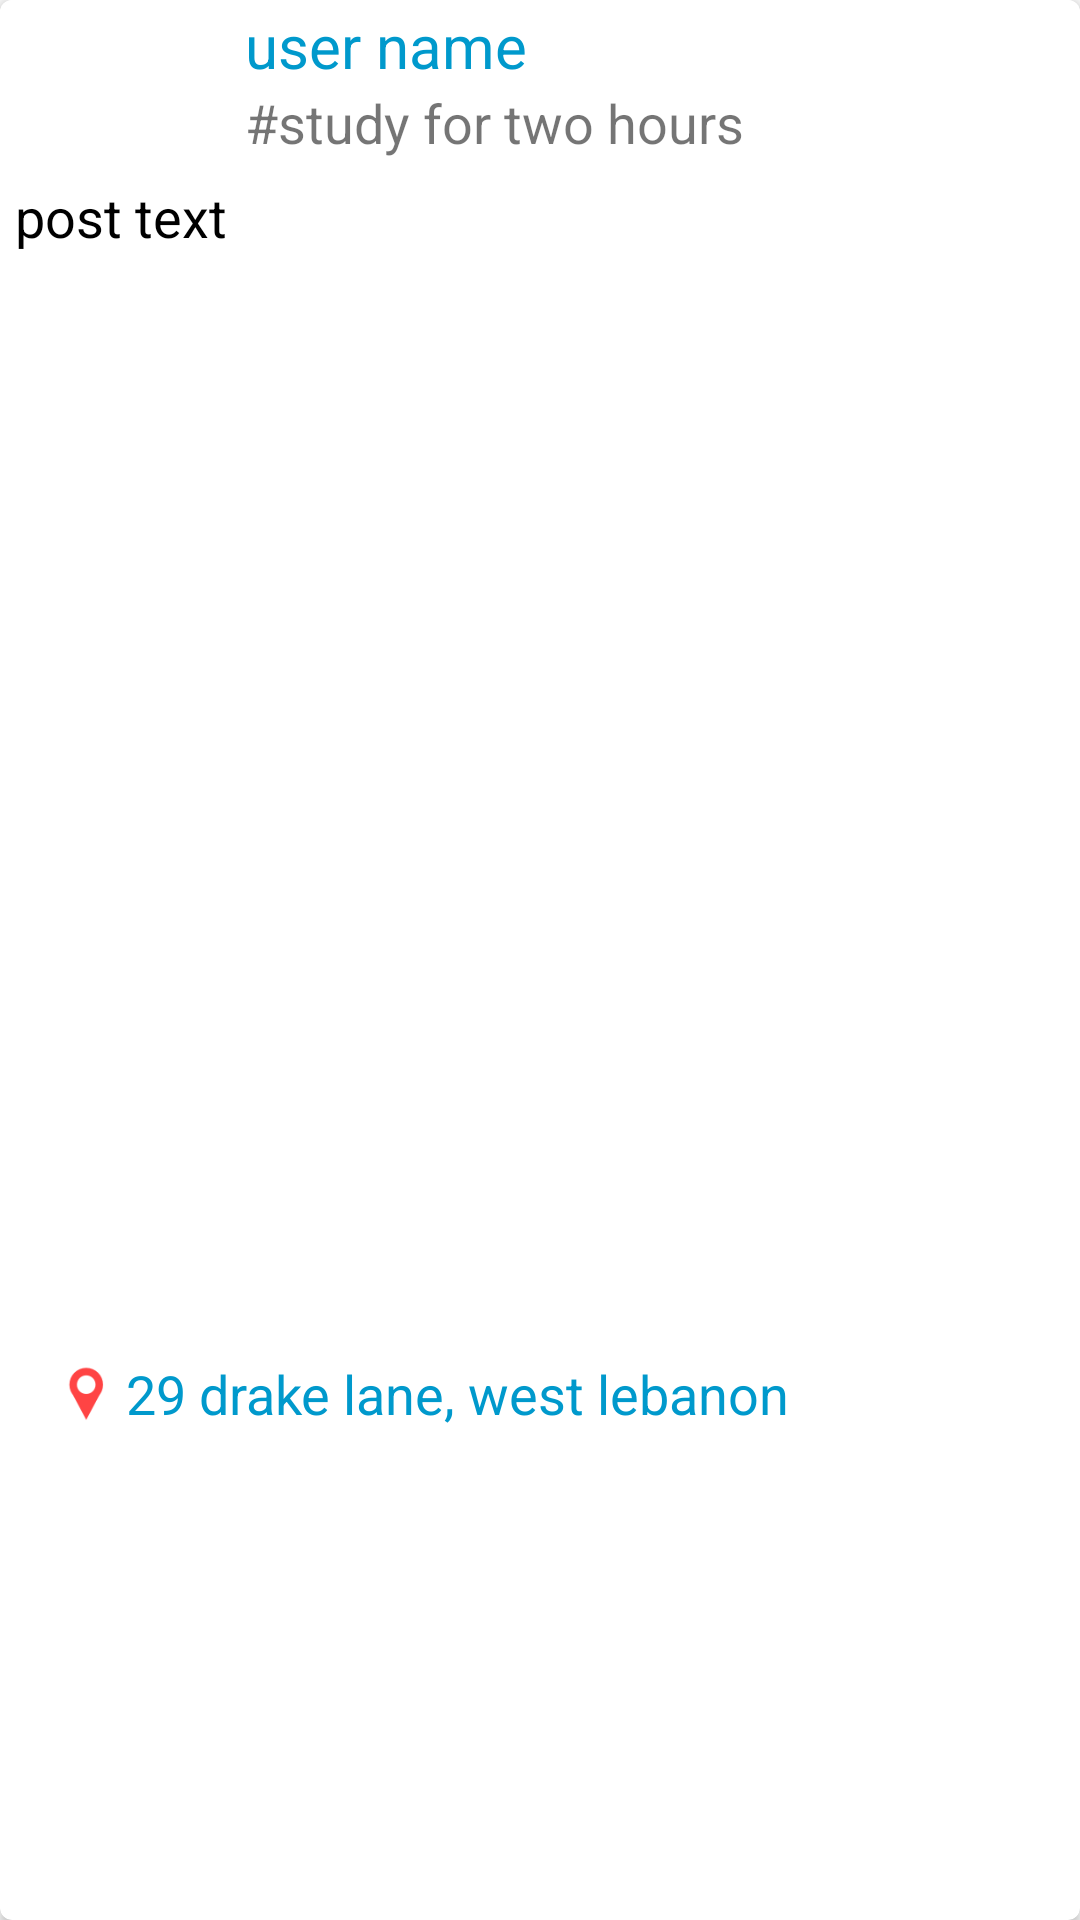

Named icons in this screenshot (1080x1920) and their centers, (x,y):
location marker: (86,1393)
